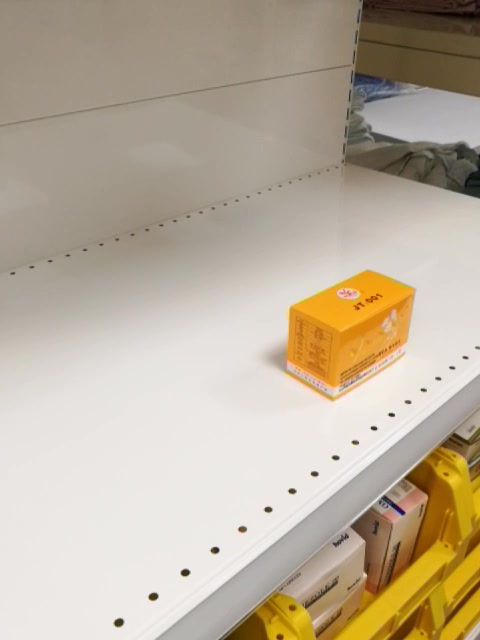jasminetea: (283, 268, 418, 404)
